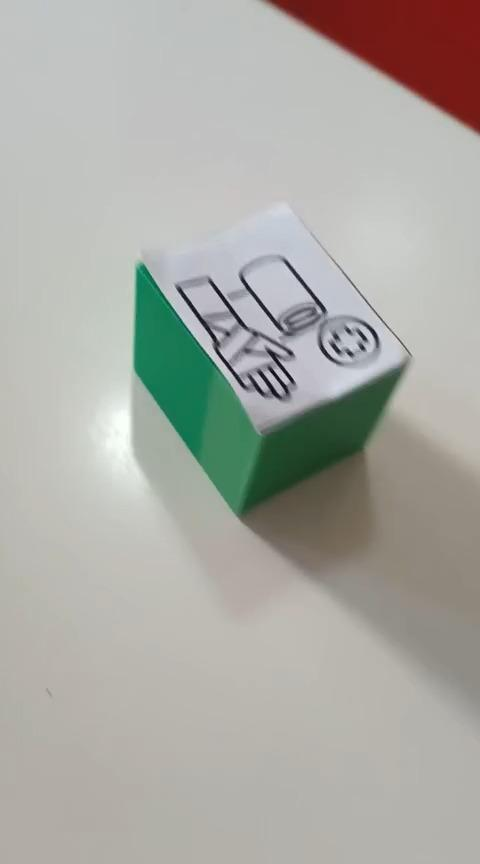Bandages: (131, 199, 413, 517)
